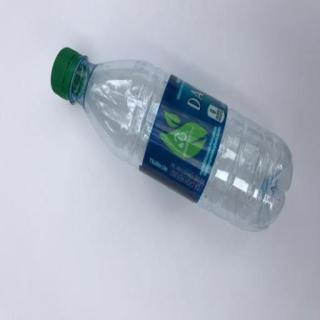Plastic-bottle: (49, 45, 299, 239)
